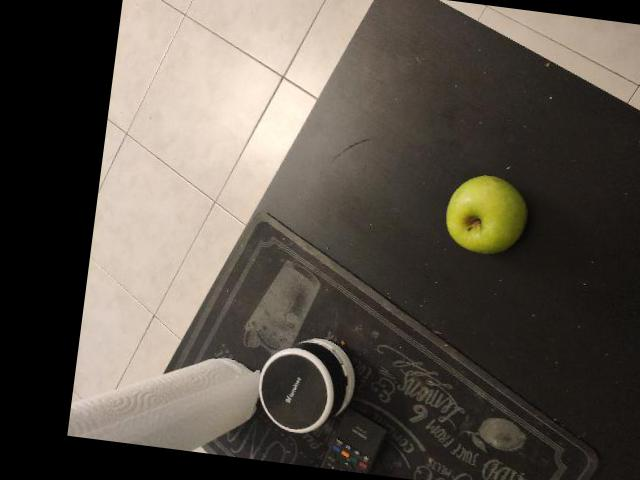apple: (269, 5, 372, 132)
